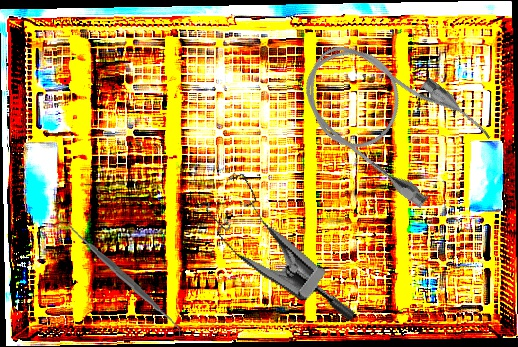Cannula: (283, 17, 497, 217)
Spatula Surgical: (63, 219, 187, 337)
Speculum: (181, 162, 389, 324)
